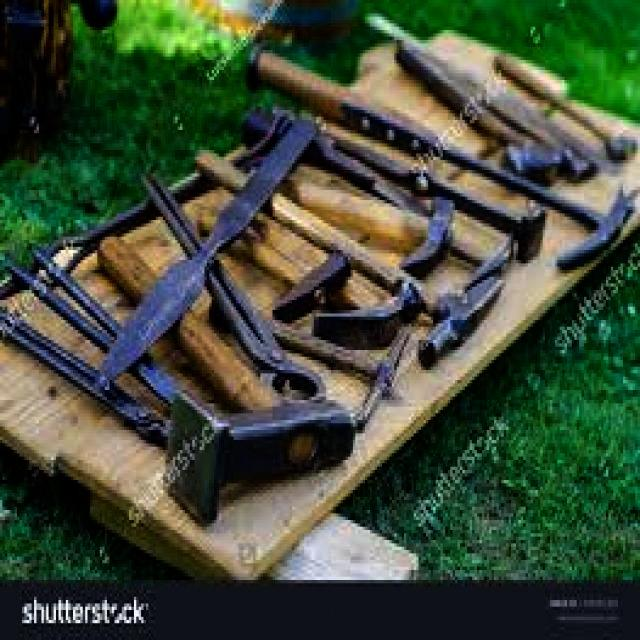hammer: (90, 222, 360, 532), (192, 154, 509, 378), (214, 208, 428, 348), (393, 36, 571, 184), (190, 215, 353, 325)
